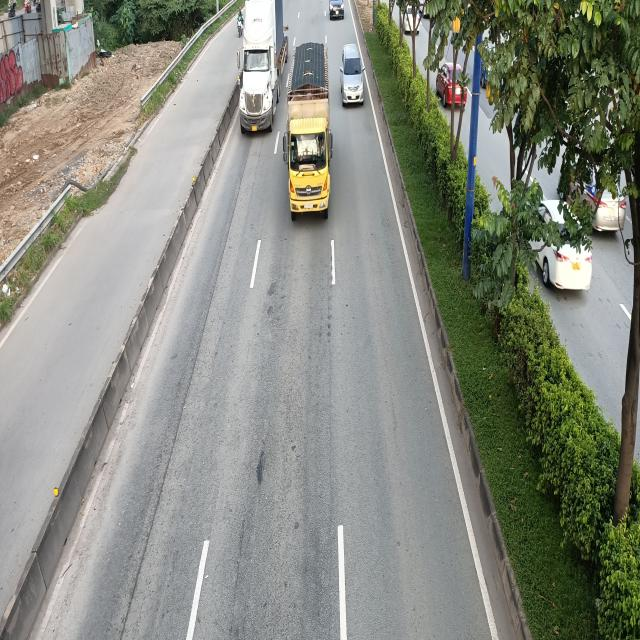car: (341, 43, 366, 106)
container: (281, 40, 333, 222), (240, 0, 288, 136)
